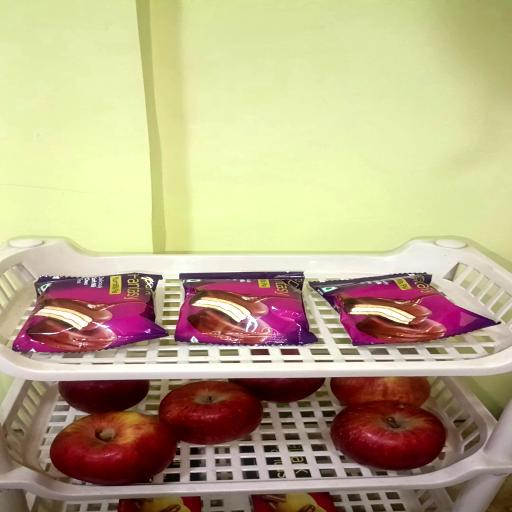Apple: (49, 411, 176, 484), (330, 402, 446, 469), (161, 380, 264, 444), (330, 376, 430, 408), (57, 380, 148, 414), (230, 377, 326, 403), (117, 496, 202, 510), (183, 497, 202, 512)
Choco Fills: (252, 490, 342, 510)
Choco Pie: (310, 273, 500, 346), (13, 275, 167, 354), (177, 272, 321, 347)
